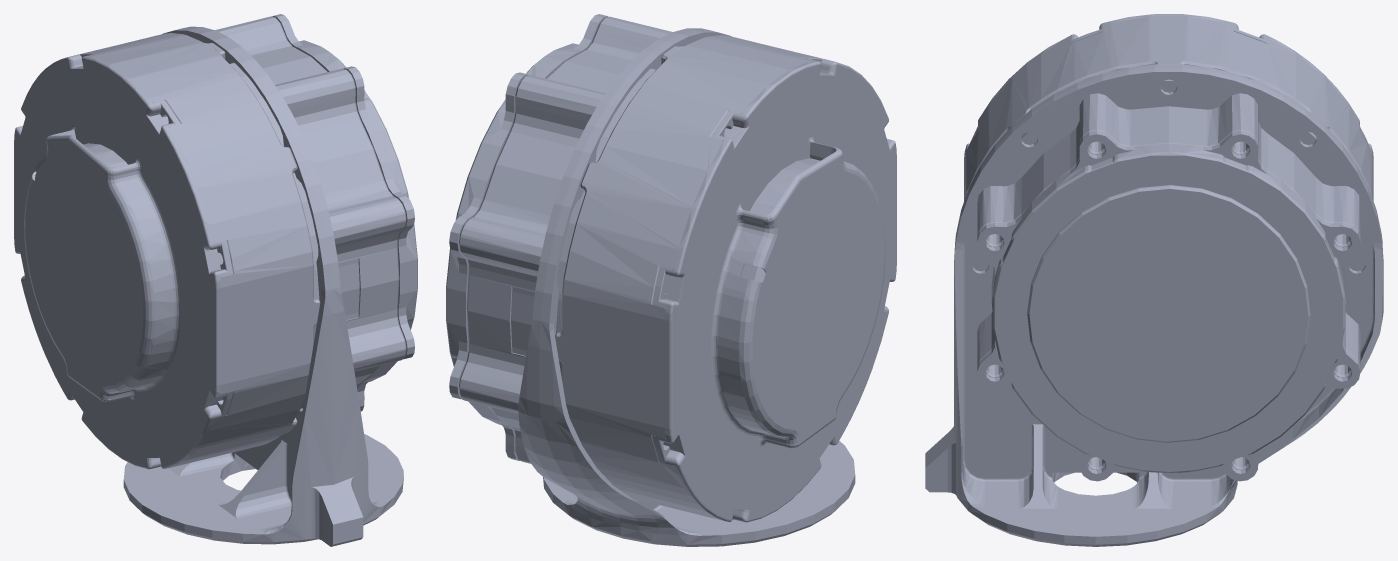
Rendered from left_shoulder_pitch_link.obj.
3 views of the same model, side by side, from view 1: azimuth 30°, elevation 25°; view 2: azimuth 150°, elevation 25°; view 3: azimuth 270°, elevation 25° (orthographic). The views are drawn at different scales.
Parts seen in each view (by area): view 1: left_shoulder_pitch_link-mesh; view 2: left_shoulder_pitch_link-mesh; view 3: left_shoulder_pitch_link-mesh.
Part boxes in pixels (x1,y1,x2,y2): left_shoulder_pitch_link-mesh: [14, 14, 417, 546]; left_shoulder_pitch_link-mesh: [446, 14, 896, 546]; left_shoulder_pitch_link-mesh: [925, 14, 1383, 546].
Bounding box in the file's own units: 0.0697 × 0.1049 × 0.1035.
